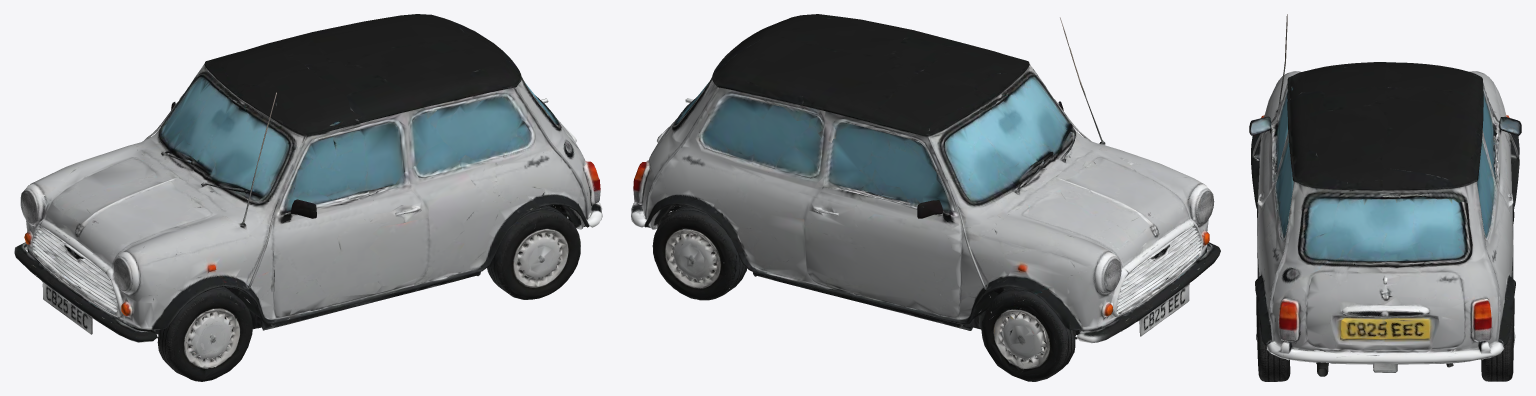
File: mini-SHRINK.glb
The picture shows the model from 3 angles, left to right: view 1: azimuth 30°, elevation 25°; view 2: azimuth 150°, elevation 25°; view 3: azimuth 270°, elevation 25°; orthographic projection. The views are drawn at different scales.
Parts seen in each view (by area): view 1: object 1, Wheel_FL, Wheel_RL; view 2: object 1, Wheel_FR, Wheel_RR; view 3: object 1, Wheel_RR, Wheel_RL.
Part boxes in pixels (left/top/right/bottom): object 1: left=14, top=14, right=602, bottom=342; Wheel_FL: left=157, top=287, right=252, bottom=381; Wheel_RL: left=487, top=205, right=580, bottom=299; object 1: left=631, top=14, right=1220, bottom=343; Wheel_FR: left=981, top=287, right=1075, bottom=381; Wheel_RR: left=652, top=205, right=737, bottom=300; object 1: left=1249, top=14, right=1521, bottom=376; Wheel_RR: left=1481, top=296, right=1515, bottom=381; Wheel_RL: left=1256, top=296, right=1290, bottom=381.
Bounding box in the file's own units: 1.9 × 0.9525 × 0.9488.
Materials: 1 (1 with a texture image).
